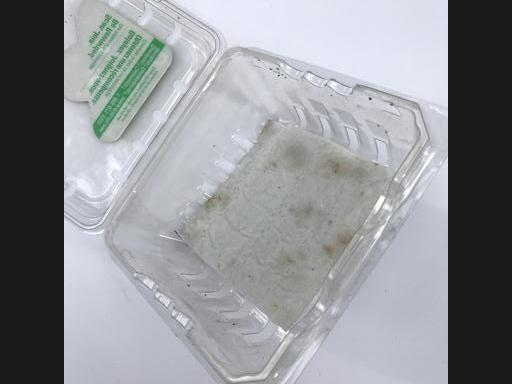bottle: (64, 0, 447, 384)
